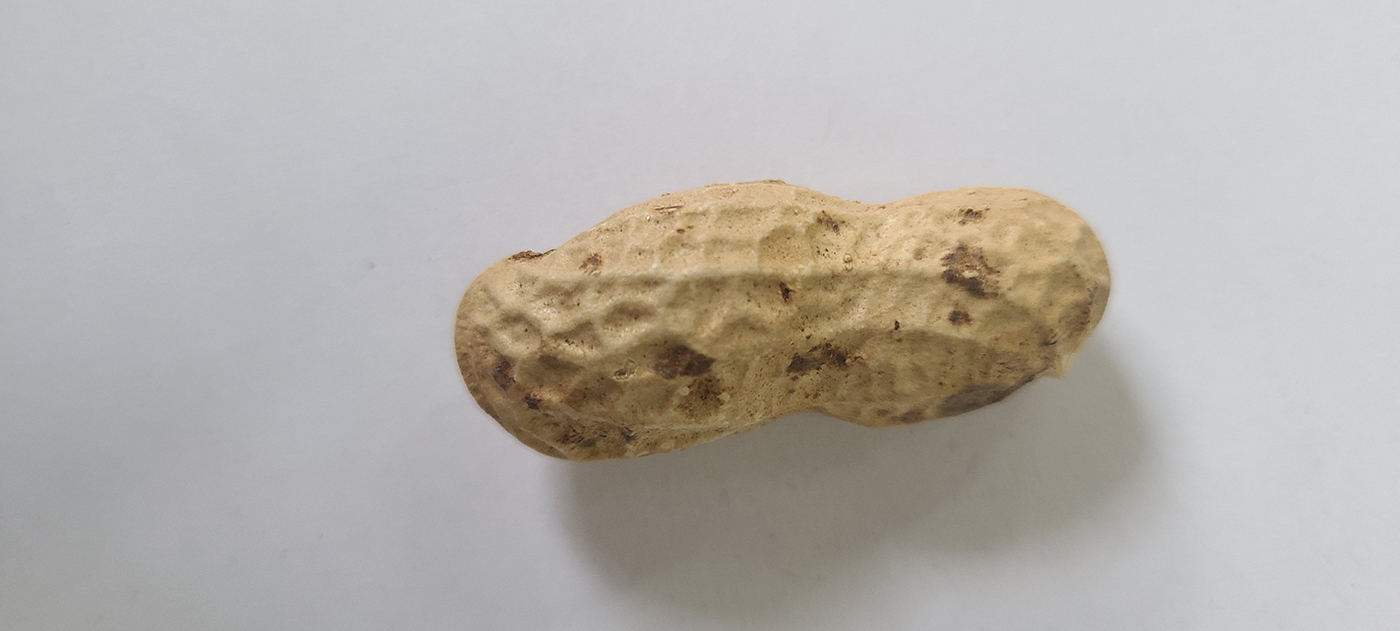h: (451, 179, 1113, 464)
